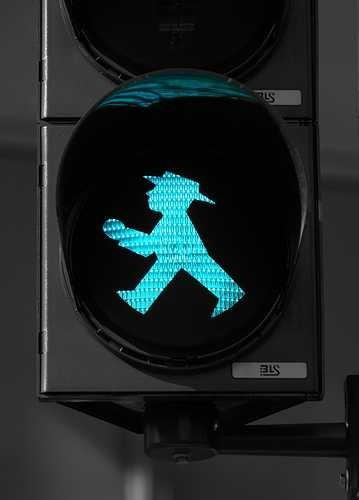green: (76, 139, 285, 356)
